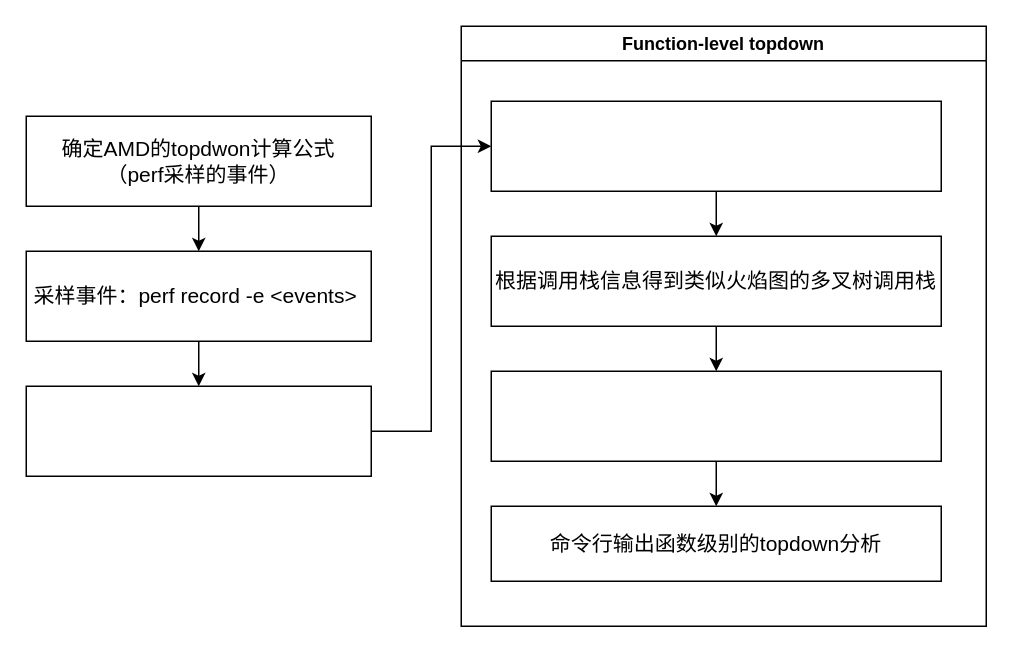
This 1013x653 diagram has some shape labels left out. The shapes that lost their labels are listed below. From the top down, each one's centre as x and y in pixels, then its label:
[715,145]: 处理perf.unfold文件，获取每个采样点的调用栈信息和计数器信息
[198,430]: perf script 解析生成的perf.data
[715,415]: 根据整合后的调用栈和计数器信息计算每个函数的topdown四大顶类的占比结果
